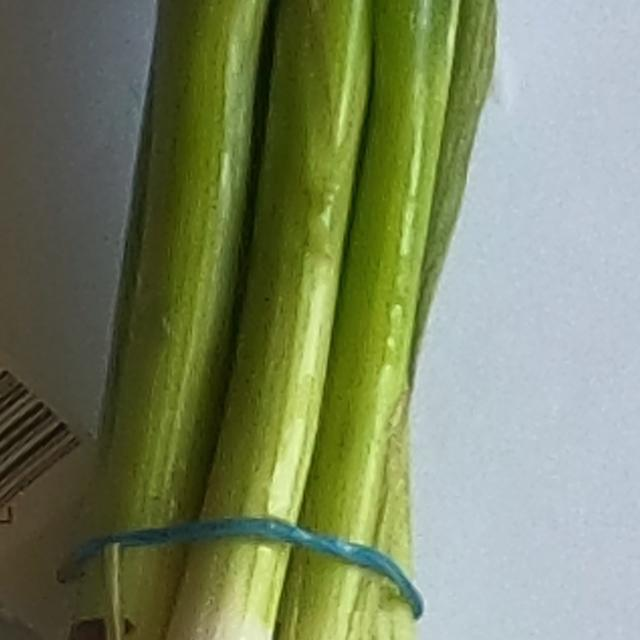green_onion: (0, 0, 500, 640)
